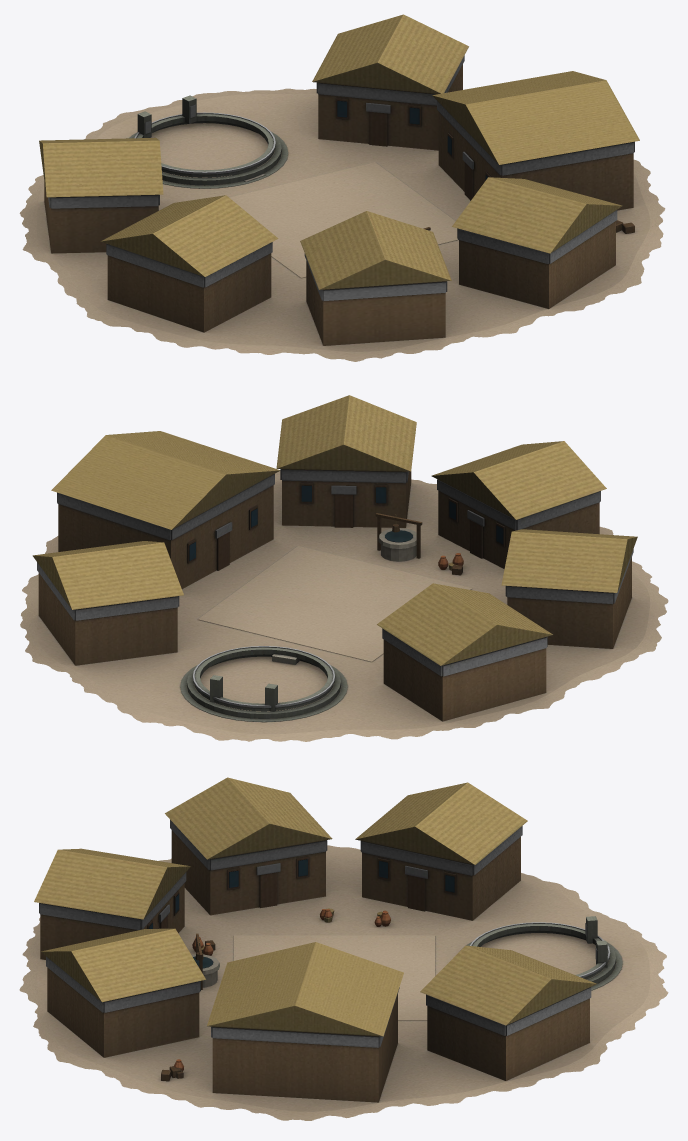
File: bronze-town-small-b-americas.glb
3 renders of one model, top to bottom at view 1: azimuth 30°, elevation 25°; view 2: azimuth 150°, elevation 25°; view 3: azimuth 270°, elevation 25°, orthographic.
Parts seen in each view (by area): view 1: LOD0; view 2: LOD0; view 3: LOD0.
Boxes of the visible parts, <box> form: LOD0: <box>19,14,665,361</box>; LOD0: <box>20,395,668,741</box>; LOD0: <box>19,777,668,1120</box>.
Size of what is drawn, in the model's own units: 4.03 by 0.6501 by 3.94.
Materials: 3 (3 with a texture image).
